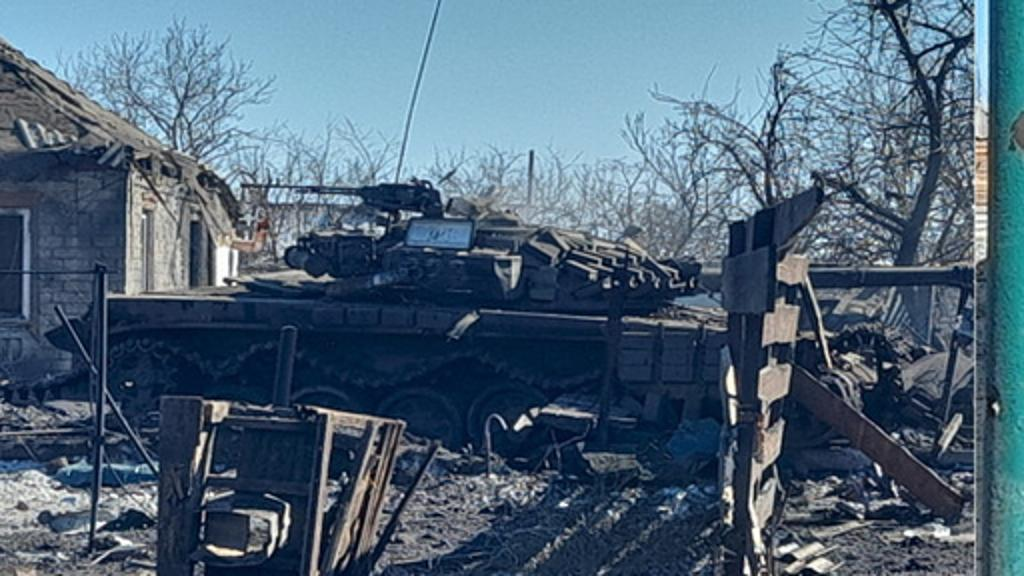TANK: (50, 170, 968, 484)
